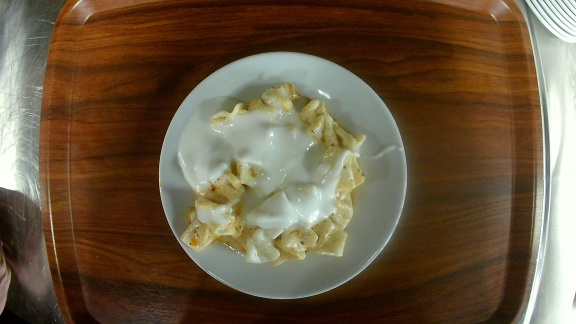manti: (157, 49, 409, 300)
